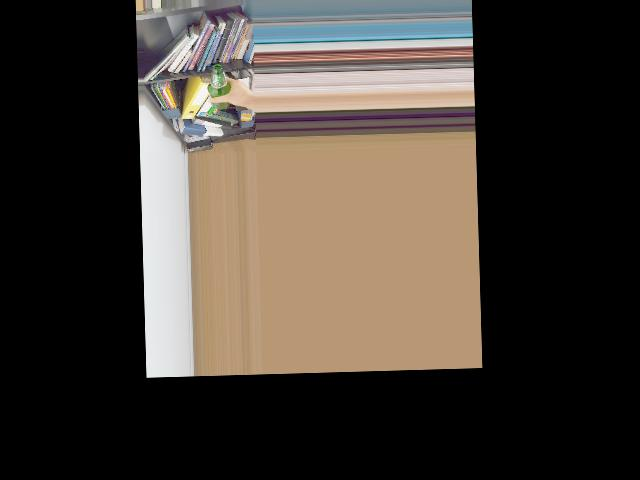beer: (207, 64, 231, 110)
